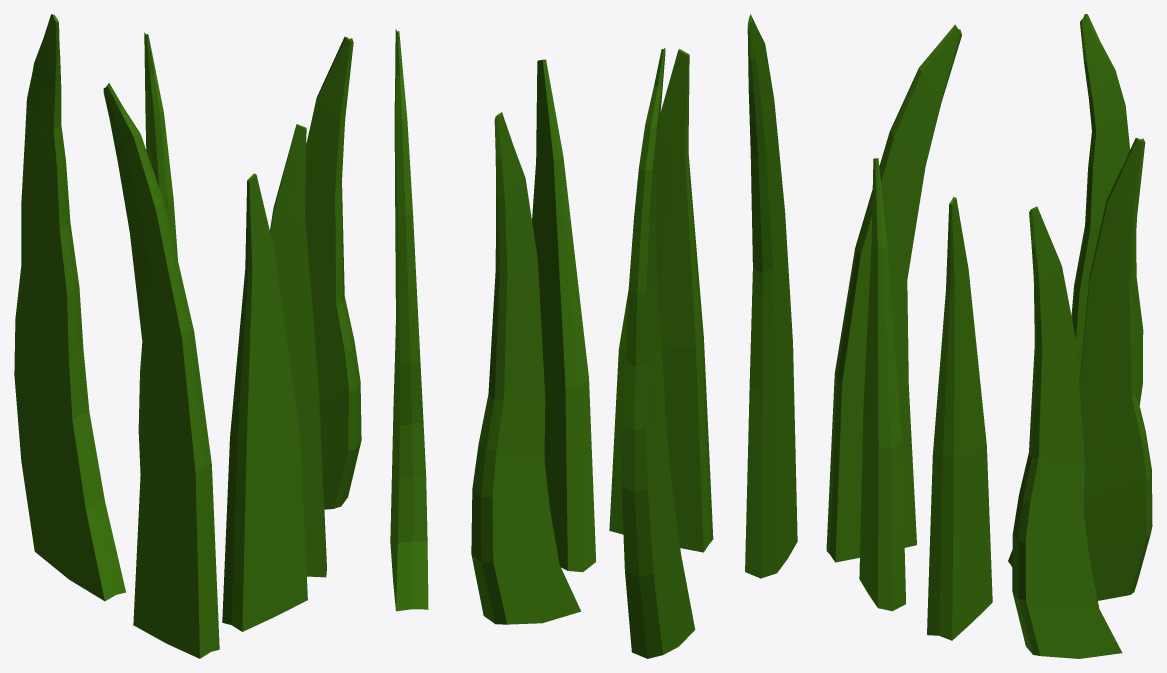
The model's file is LPGrass3.obj.
The picture shows the model from 3 angles, left to right: view 1: azimuth 30°, elevation 25°; view 2: azimuth 150°, elevation 25°; view 3: azimuth 270°, elevation 25°; orthographic projection. The views are drawn at different scales.
Visible parts, largest first — view 1: Grass_3.001_Cube.039; view 2: Grass_3.001_Cube.039; view 3: Grass_3.001_Cube.039.
Boxes of the visible parts, x1,y1,x2,y2 form: Grass_3.001_Cube.039: [14, 14, 361, 658]; Grass_3.001_Cube.039: [390, 14, 797, 658]; Grass_3.001_Cube.039: [826, 14, 1152, 658].
Bounding box in the file's own units: 0.0482 × 0.0884 × 0.0483.
